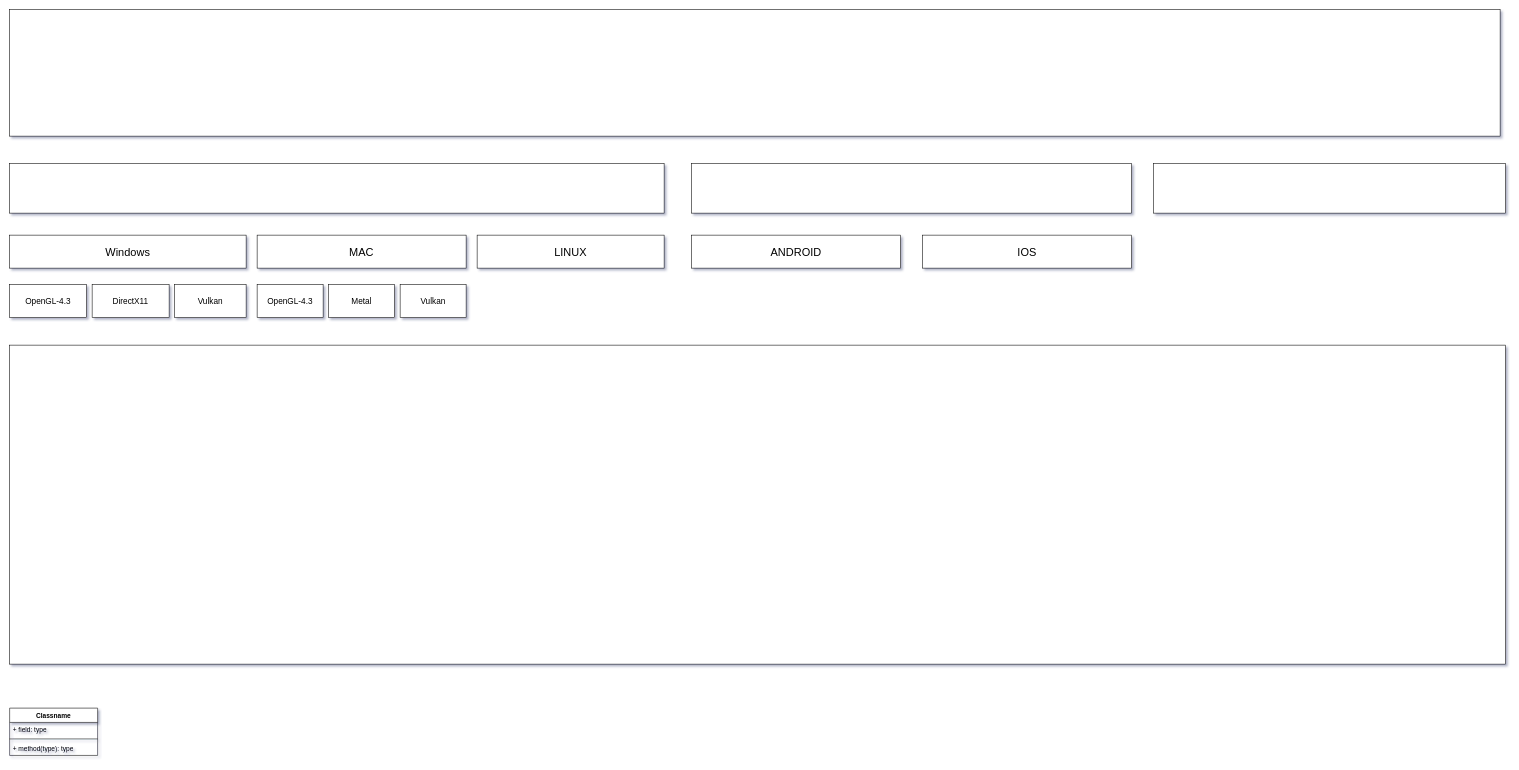
Some shapes in this 1519 by 770 pixel diagram are drawn without their labels. Here are the shapes that lost their labels. From the top down, the centre of each, then its label:
At point (754, 72): "HARDWARE".
At point (336, 188): "PC".
At point (911, 188): "MOBILE".
At point (1329, 188): "CONSOLE".
At point (757, 504): "CORE(DRAXION) (Platform Independent)".
